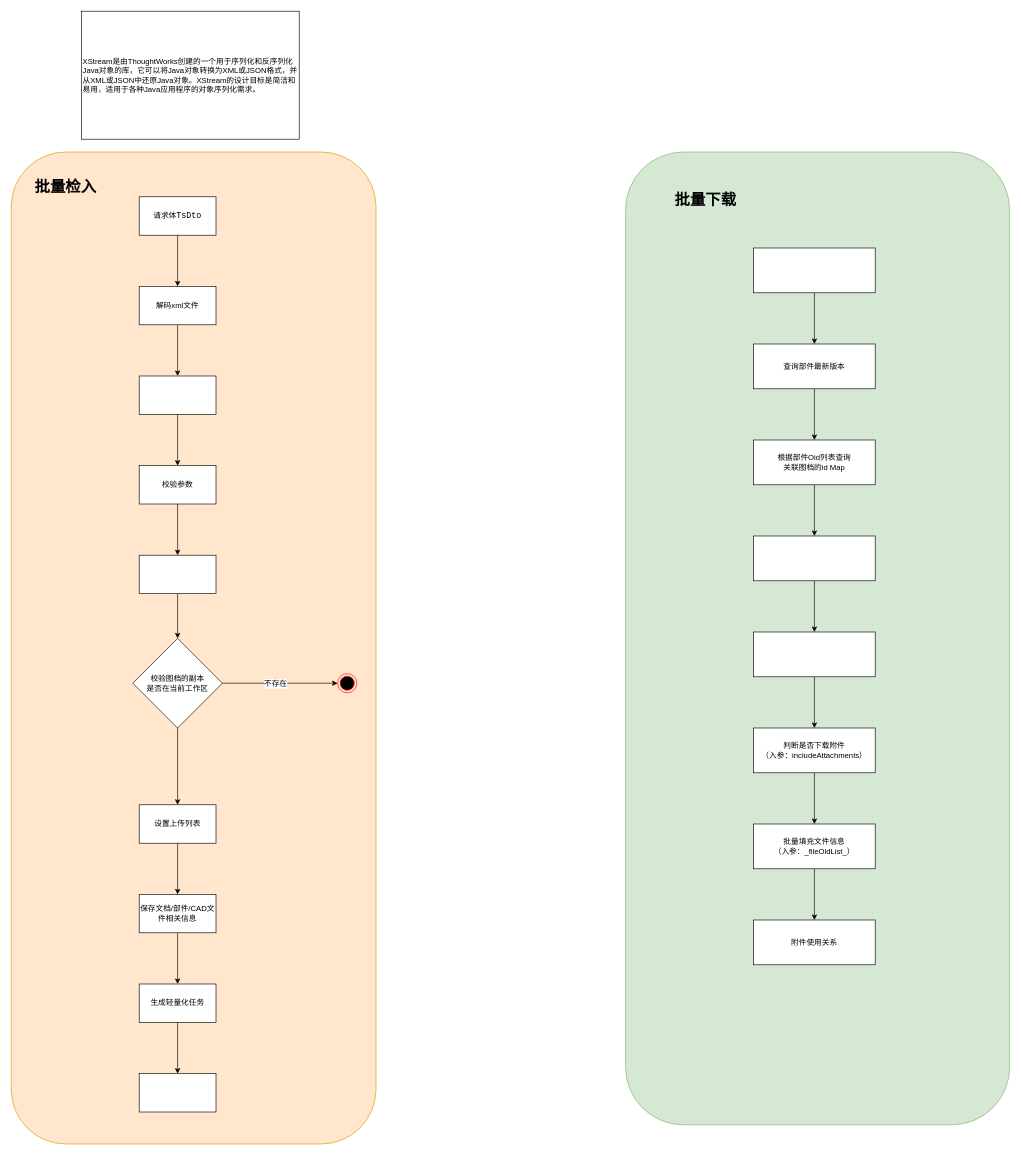
The diagram is 1021 pixels wide and 1155 high, and some of its shapes have lost their labels. Each missing label, with the box of its shape:
合并上述fileOid至_fileOidList_: (753, 631, 875, 677)
根据图档id列表获取附件信息: (753, 535, 875, 581)
生成CAD实例: (139, 375, 216, 414)
获取入参 （fileOid、partNumber-部件编码）: (753, 247, 875, 293)
转换预检入数据: (139, 555, 216, 594)
返回检入的CAD文档和文件信息: (139, 1073, 216, 1112)
